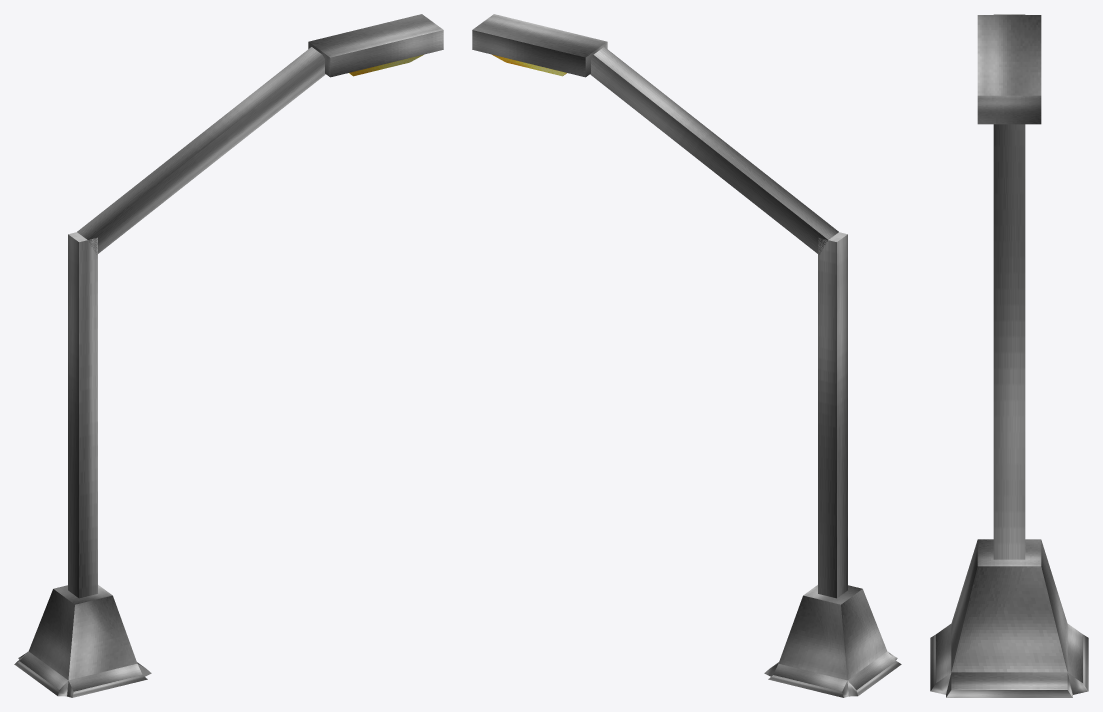
File: streetlight.fbx
The picture shows the model from 3 angles, left to right: view 1: azimuth 30°, elevation 25°; view 2: azimuth 150°, elevation 25°; view 3: azimuth 270°, elevation 25°; orthographic projection. The views are drawn at different scales.
Parts seen in each view (by area): view 1: metalbarbottom, lampbase, metalbartop, light; view 2: metalbarbottom, lampbase, metalbartop, light; view 3: lampbase, metalbarbottom, light.
Boxes of the visible parts, x1,y1,x2,y2 form: metalbarbottom: [68, 232, 97, 598]; lampbase: [14, 585, 151, 697]; metalbartop: [77, 47, 325, 254]; light: [308, 14, 443, 77]; metalbarbottom: [818, 232, 847, 598]; lampbase: [764, 585, 901, 697]; metalbartop: [590, 47, 838, 254]; light: [472, 14, 607, 77]; lampbase: [930, 539, 1088, 697]; metalbarbottom: [993, 124, 1025, 559]; light: [977, 15, 1041, 124].
Bounding box in the file's own units: 131 × 178 × 31.06.
1 material, 1 textured.
